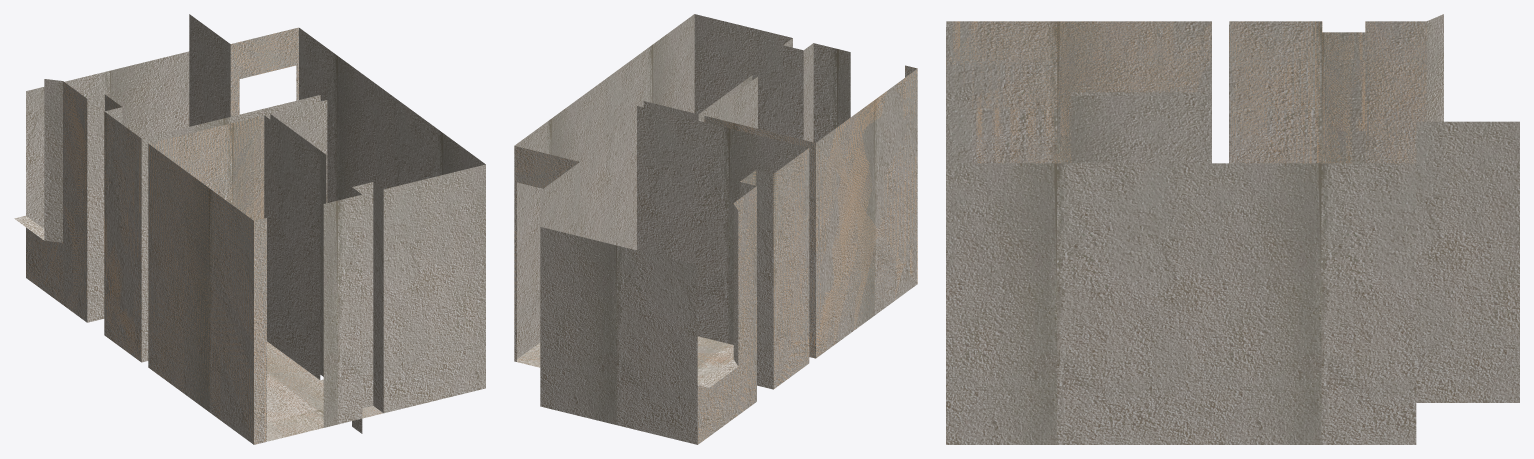
Rendered from COM012.obj.
3 views of the same model, side by side, from view 1: azimuth 30°, elevation 25°; view 2: azimuth 150°, elevation 25°; view 3: azimuth 270°, elevation 25° (orthographic). The views are drawn at different scales.
Parts seen in each view (by area): view 1: Mesh1 COM012 Model; view 2: Mesh1 COM012 Model; view 3: Mesh1 COM012 Model.
Part boxes in pixels (box(x1,y1,x2,y2)): Mesh1 COM012 Model: box(14, 14, 485, 444); Mesh1 COM012 Model: box(514, 14, 917, 444); Mesh1 COM012 Model: box(946, 14, 1519, 444).
Bounding box in the file's own units: 4.1 × 3.85 × 6.65.
Materials: 3 (2 with a texture image).
